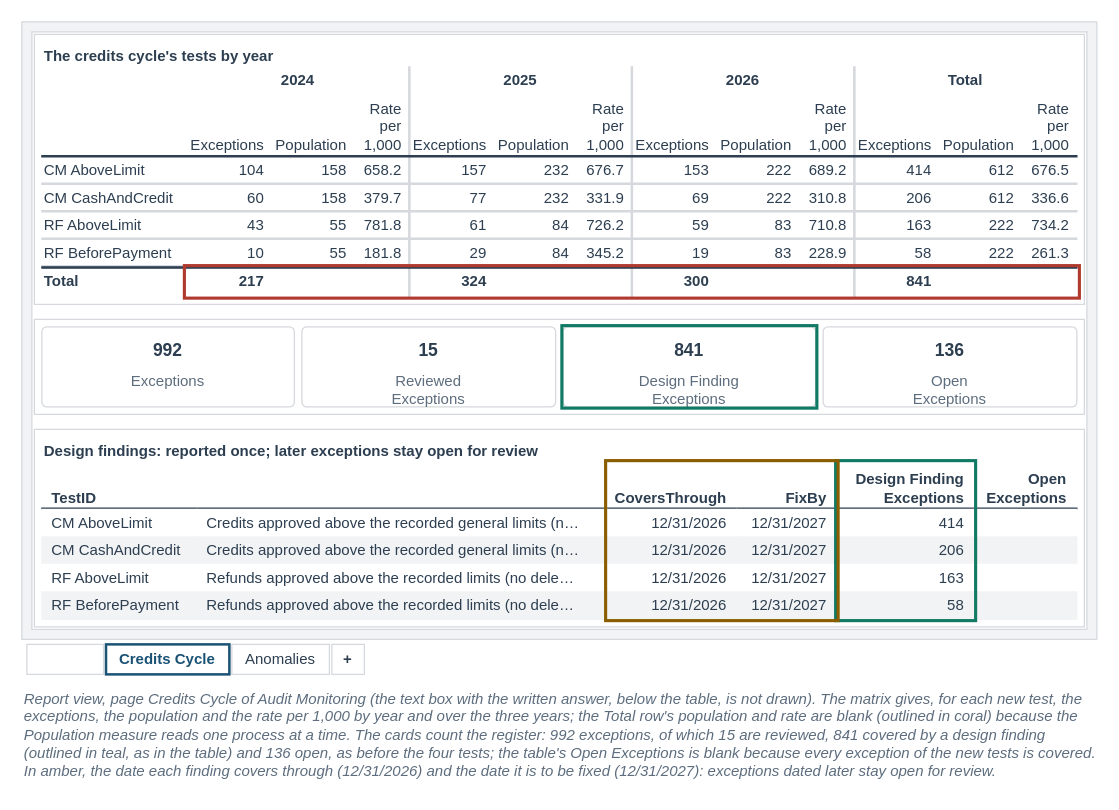
This 1119x810 diagram has some shape labels left out. The centre of each missing label's shape, as x and y in pixels:
Finding: (401,485)
Review: (65,658)
